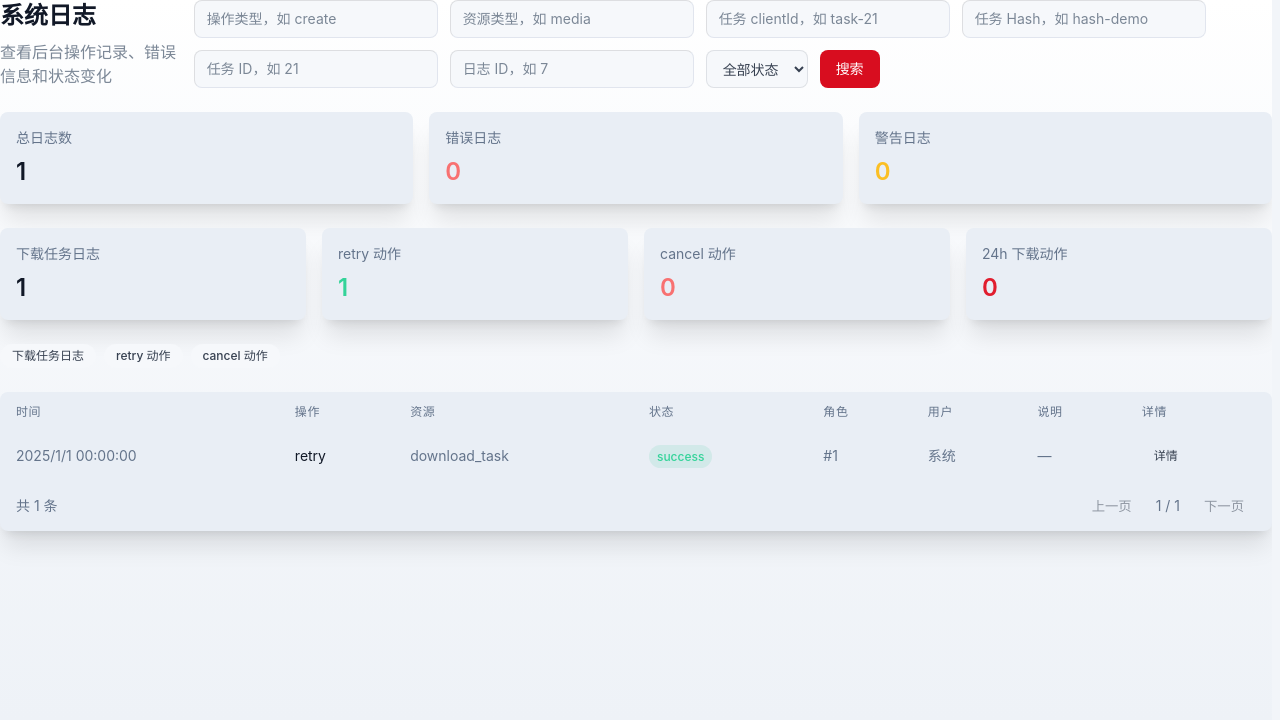
Test: AdminLogsView › still links back to admin download tasks when only downloadTaskId is available
Step 1. Click the button "详情" → [1166, 456], box [1142,444,1190,468]
(page scrolled)
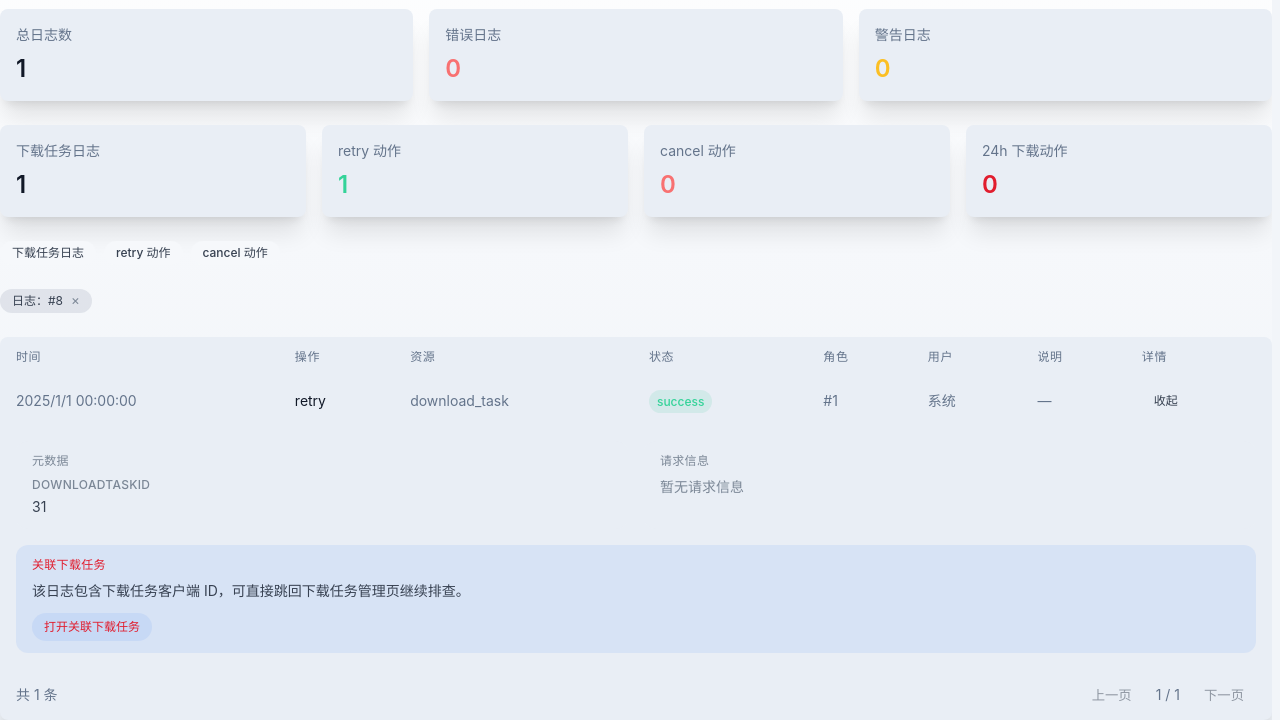
Expected: the link with class "router-link-stub" is shown, [32,613,152,641]
